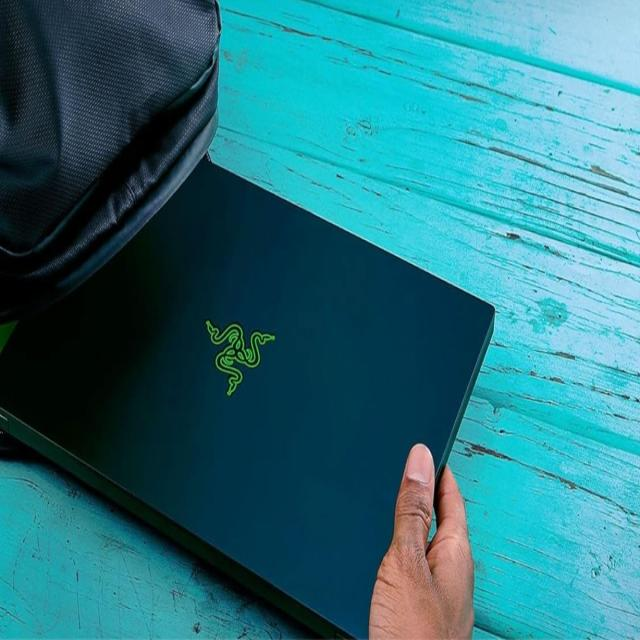laptop: (0, 155, 496, 638)
